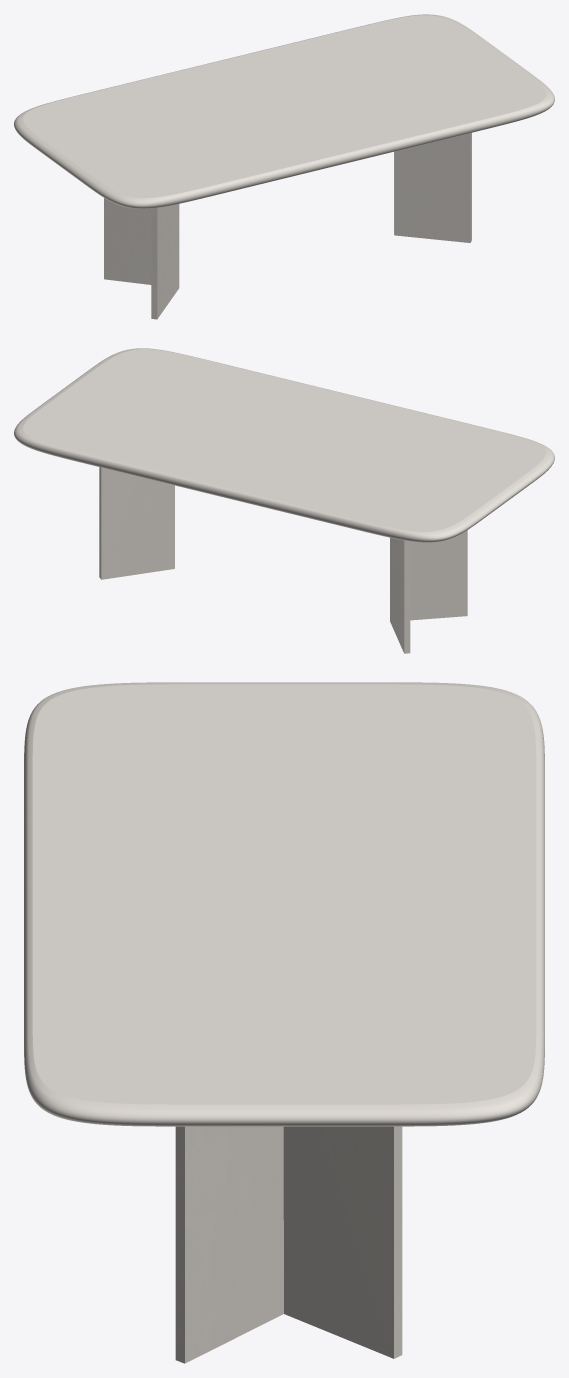
Rendered from pearlwhite_softrecta_round_valleyv.glb.
3 renders of one model, top to bottom at view 1: azimuth 30°, elevation 25°; view 2: azimuth 150°, elevation 25°; view 3: azimuth 270°, elevation 25°, orthographic. The views are drawn at different scales.
Visible parts, largest first — view 1: round_softrecta, valleyv; view 2: round_softrecta, valleyv; view 3: round_softrecta, valleyv.
Boxes of the visible parts, left/top/right/bottom form: round_softrecta: left=14, top=14, right=554, bottom=208; valleyv: left=104, top=133, right=471, bottom=319; round_softrecta: left=14, top=348, right=554, bottom=542; valleyv: left=99, top=467, right=467, bottom=653; round_softrecta: left=24, top=682, right=544, bottom=1126; valleyv: left=175, top=1126, right=402, bottom=1363.
Bounding box in the file's own units: 7.5 × 2.5 × 3.8.
1 material, 1 textured.
